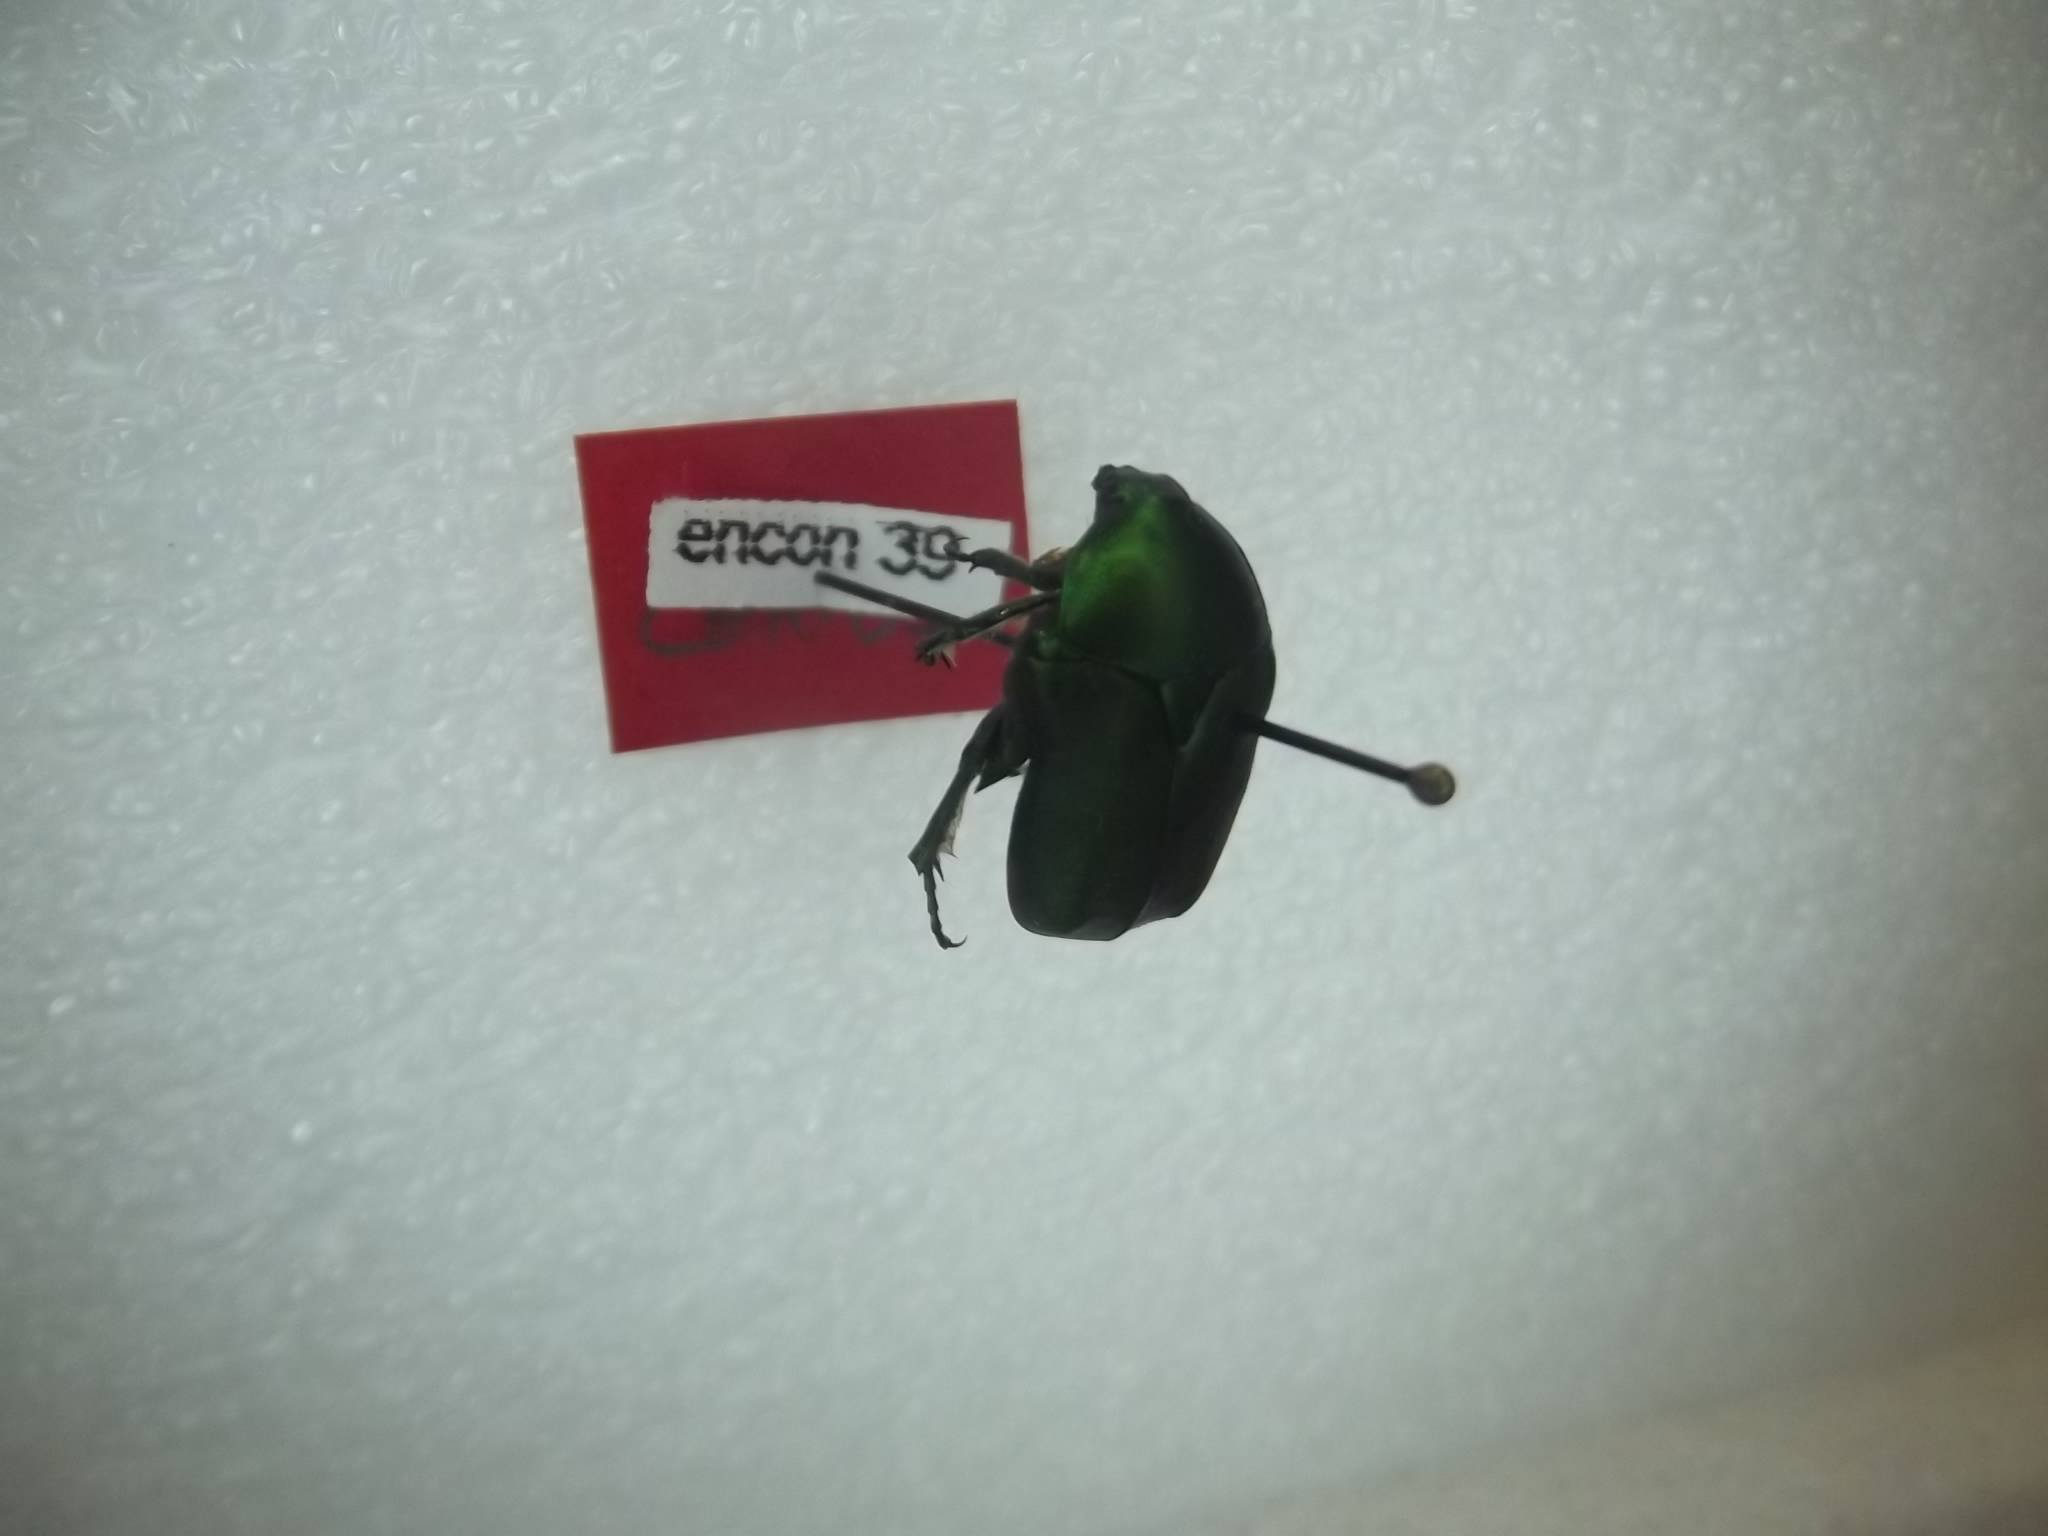Protaetia_ungarica_americana: (880, 436, 1309, 978)
